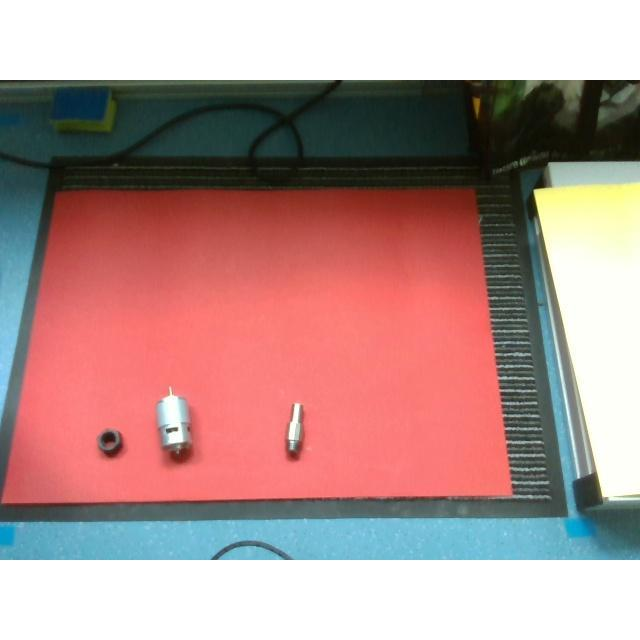Axis2: (284, 402, 304, 453)
M20: (98, 430, 122, 456)
Motor2: (155, 384, 193, 456)
